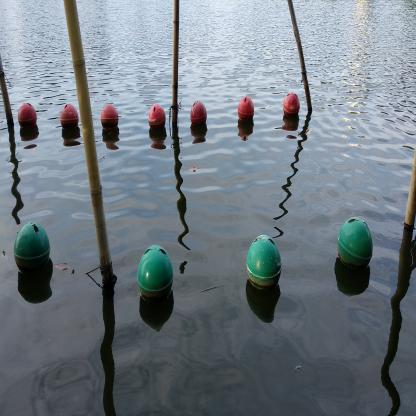green_buoy: (13, 218, 52, 284), (245, 232, 281, 298), (136, 246, 172, 309), (336, 217, 373, 275)
red_buoy: (17, 103, 39, 136), (60, 101, 79, 137), (100, 101, 120, 135), (148, 100, 167, 135), (190, 98, 208, 134), (281, 92, 300, 124), (237, 94, 255, 126)
